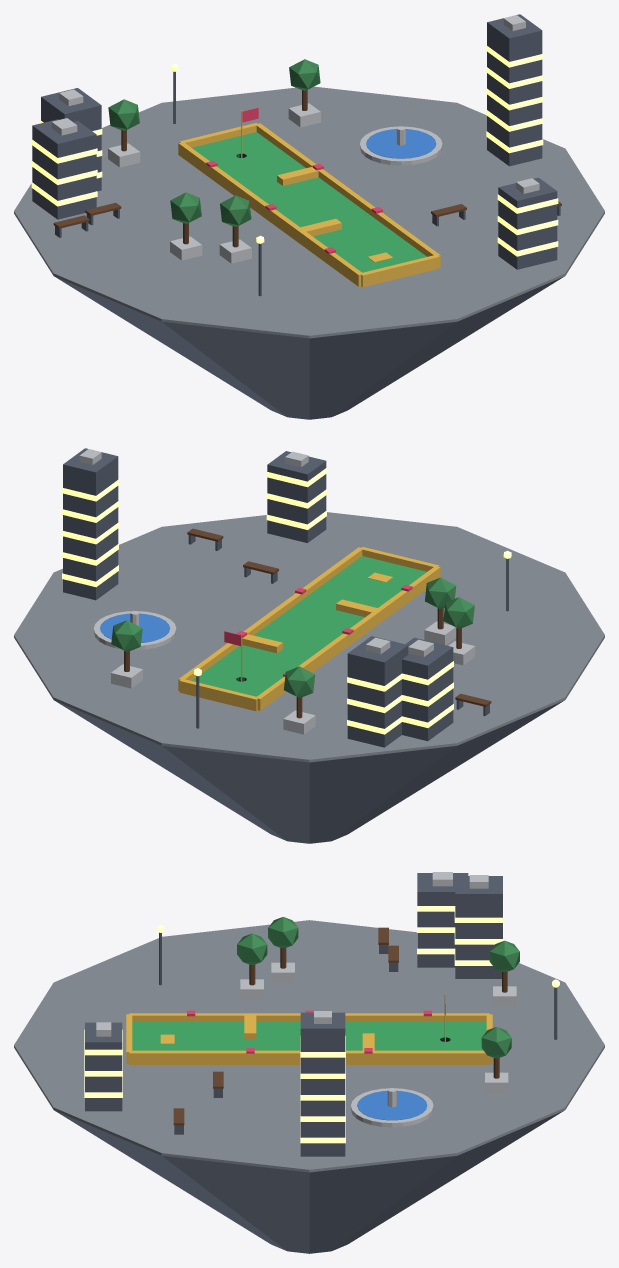
The model's file is hole4.glb.
3 renders of one model, top to bottom at view 1: azimuth 30°, elevation 25°; view 2: azimuth 150°, elevation 25°; view 3: azimuth 270°, elevation 25°, orthographic.
Visible parts, largest first — view 1: IslandTop, IslandBase, Turf0, Tower4, Tower0, Tower8, Rail4, Rail2, Tower6, Pond, Rail1, FountainRim (+9 smaller); view 2: IslandTop, IslandBase, Turf0, Tower4, Tower6, Tower8, Tower0, Rail4, Rail2, Rail3, Pond, FountainRim (+8 smaller); view 3: IslandTop, IslandBase, Turf0, Tower4, Rail2, Tower6, Tower0, Rail4, Tower8, Pond, FountainRim, CrownP3 (+3 smaller).
Part boxes in pixels (box(x1,y1,x2,y2)): IslandTop: box(14, 86, 604, 338); IslandBase: box(54, 276, 564, 419); Turf0: box(192, 132, 426, 272); Tower4: box(487, 14, 542, 166); Tower0: box(32, 119, 96, 219); Tower8: box(498, 177, 557, 269); Rail4: box(178, 142, 361, 286); Rail2: box(255, 123, 440, 266); Tower6: box(41, 88, 101, 191); Pond: box(366, 129, 436, 158); Rail1: box(360, 255, 439, 287); FountainRim: box(360, 126, 442, 165); IslandTop: box(14, 512, 604, 762); IslandBase: box(54, 700, 564, 843); Turf0: box(192, 556, 426, 696); Tower4: box(63, 448, 118, 600); Tower6: box(347, 636, 408, 747); Tower8: box(267, 451, 326, 542); Tower0: box(402, 637, 453, 741); Rail4: box(257, 566, 440, 710); Rail2: box(178, 547, 362, 690); Rail3: box(179, 678, 258, 711); Pond: box(100, 613, 170, 642); FountainRim: box(93, 611, 176, 650); IslandTop: box(14, 920, 604, 1172); IslandBase: box(54, 1110, 564, 1253); Turf0: box(132, 1022, 486, 1050); Tower4: box(300, 1012, 345, 1156); Rail2: box(129, 1050, 489, 1064); Tower6: box(455, 876, 502, 978); Tower0: box(417, 873, 468, 967); Rail4: box(129, 1013, 489, 1021); Tower8: box(85, 1022, 122, 1111); Pond: box(357, 1090, 427, 1120); FountainRim: box(351, 1088, 433, 1127); CrownP3: box(481, 1027, 511, 1058).
Bounding box in the file's own units: 10 × 6.06 × 10.
